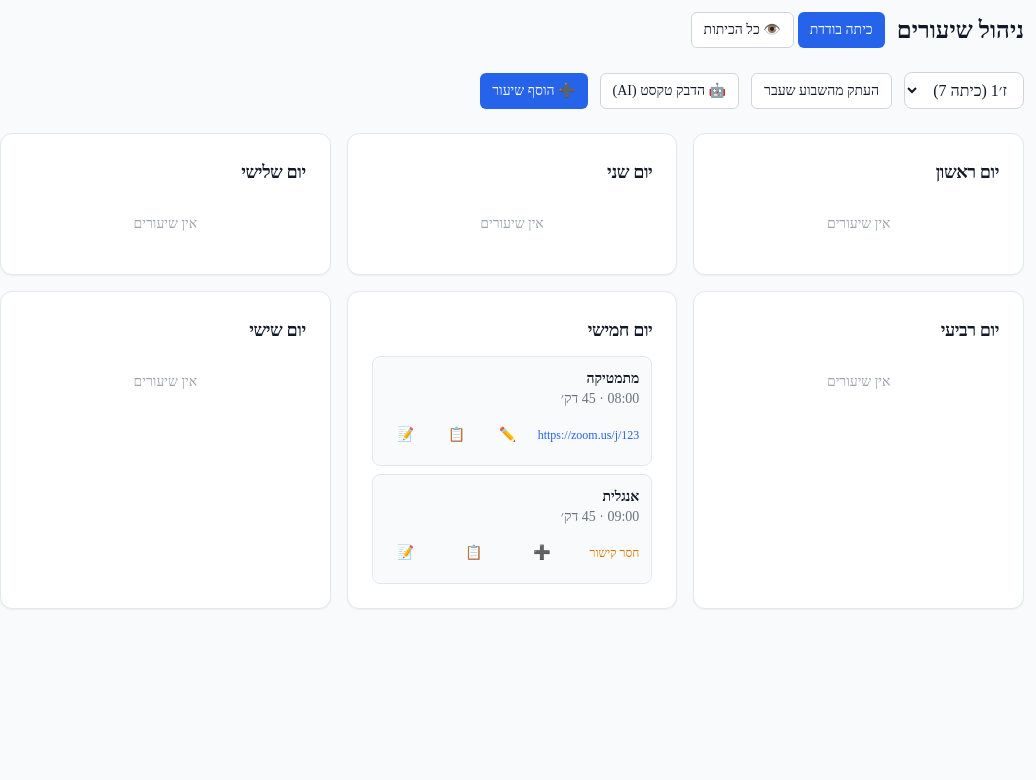
Test case: TeacherLessons › opens link edit form when clicking edit button
Expected: the text "מתמטיקה" is shown, [586,371,639,386]
Click the button named "ערוך קישור למתמטיקה": (507, 435) [487,417,528,453]
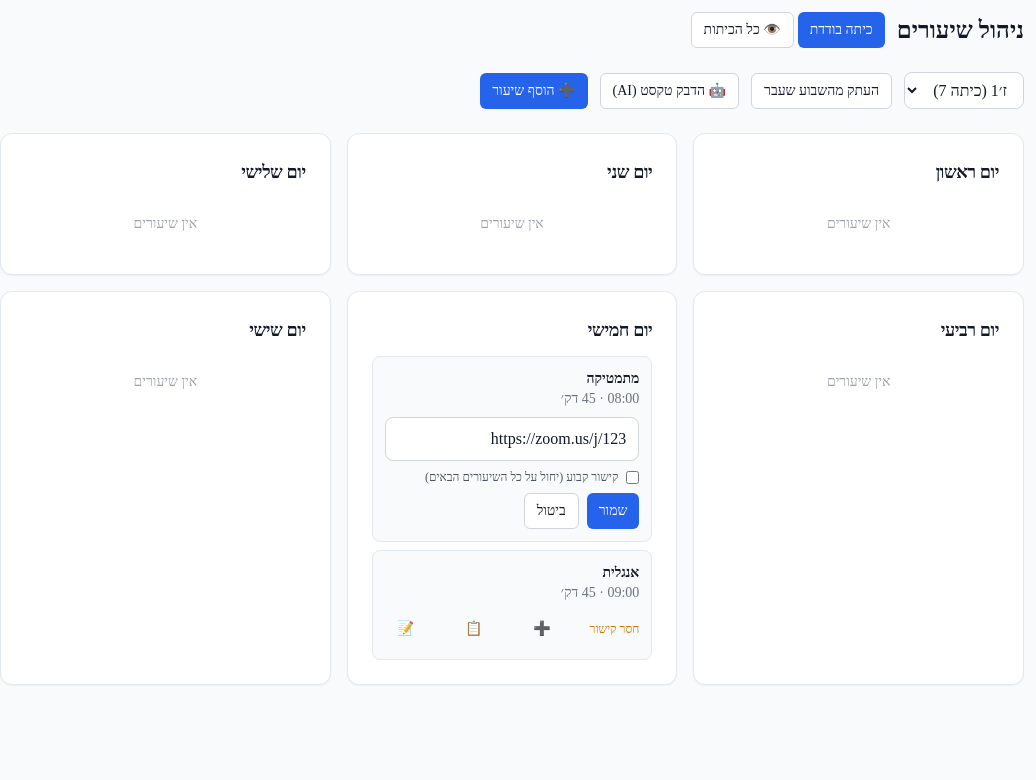
Now the field named "קישור למפגש" is shown, box [385,417,639,461]
